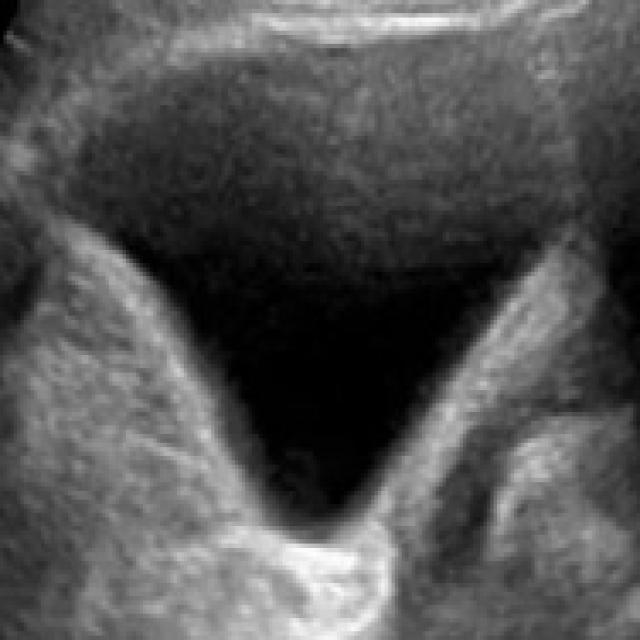bladder: (44, 9, 587, 607)
